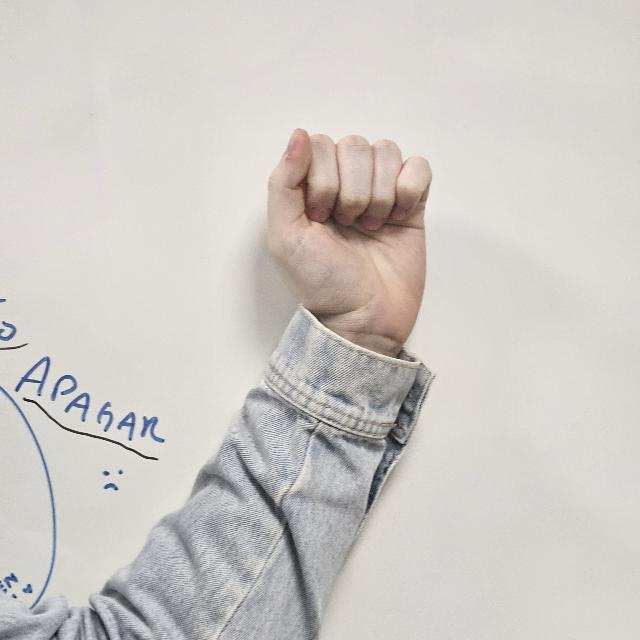Quadro: (264, 116, 438, 354)
